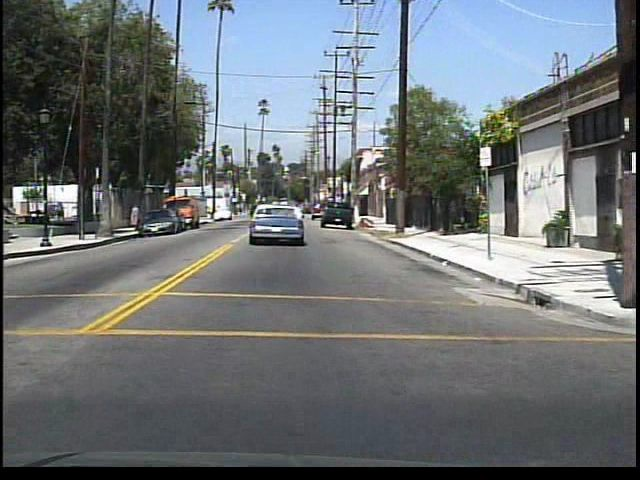person: (54, 199, 68, 225), (92, 196, 106, 222), (130, 200, 141, 229)
